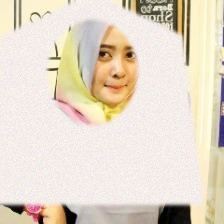Mukena: (0, 0, 204, 205)
